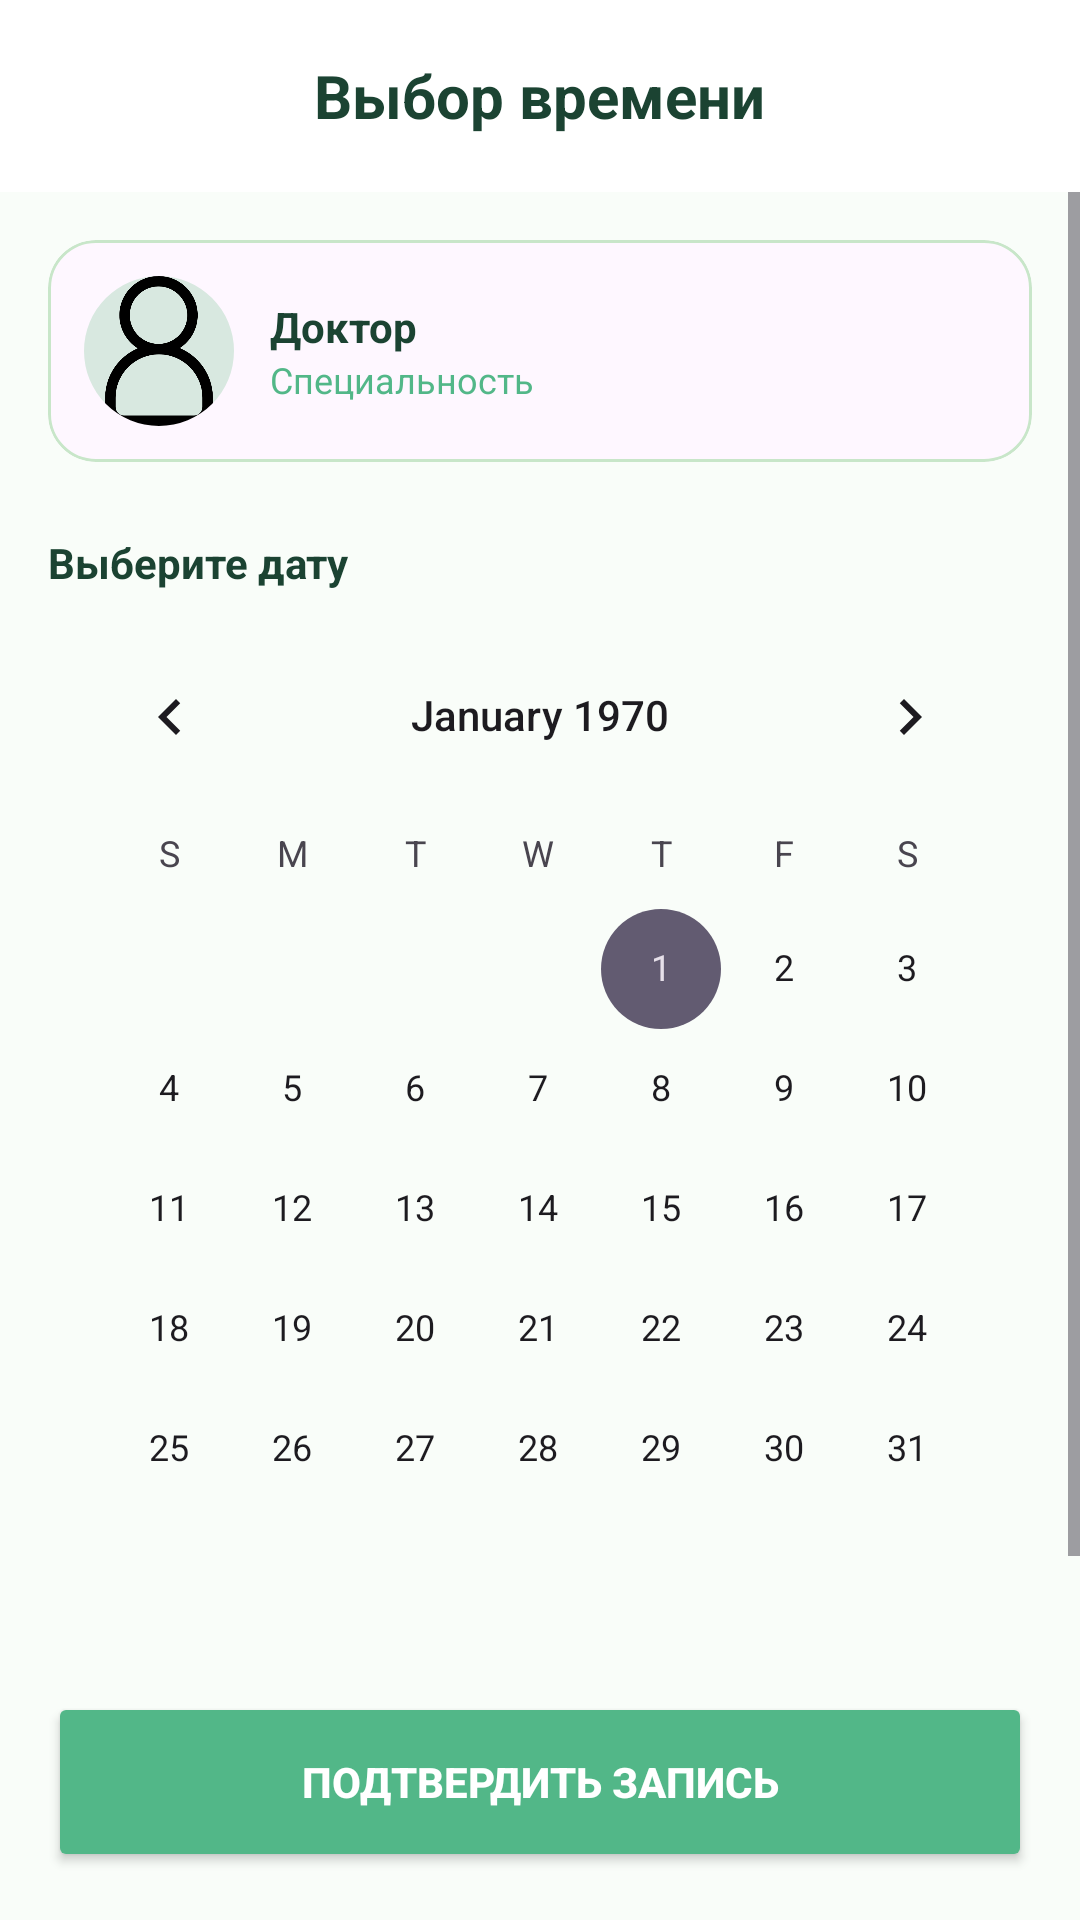

Named icons in this screenshot (1080w x 1920h) and their bounding boxes, Rect(x1, y1, x2, y2):
user: Rect(84, 276, 234, 426)
